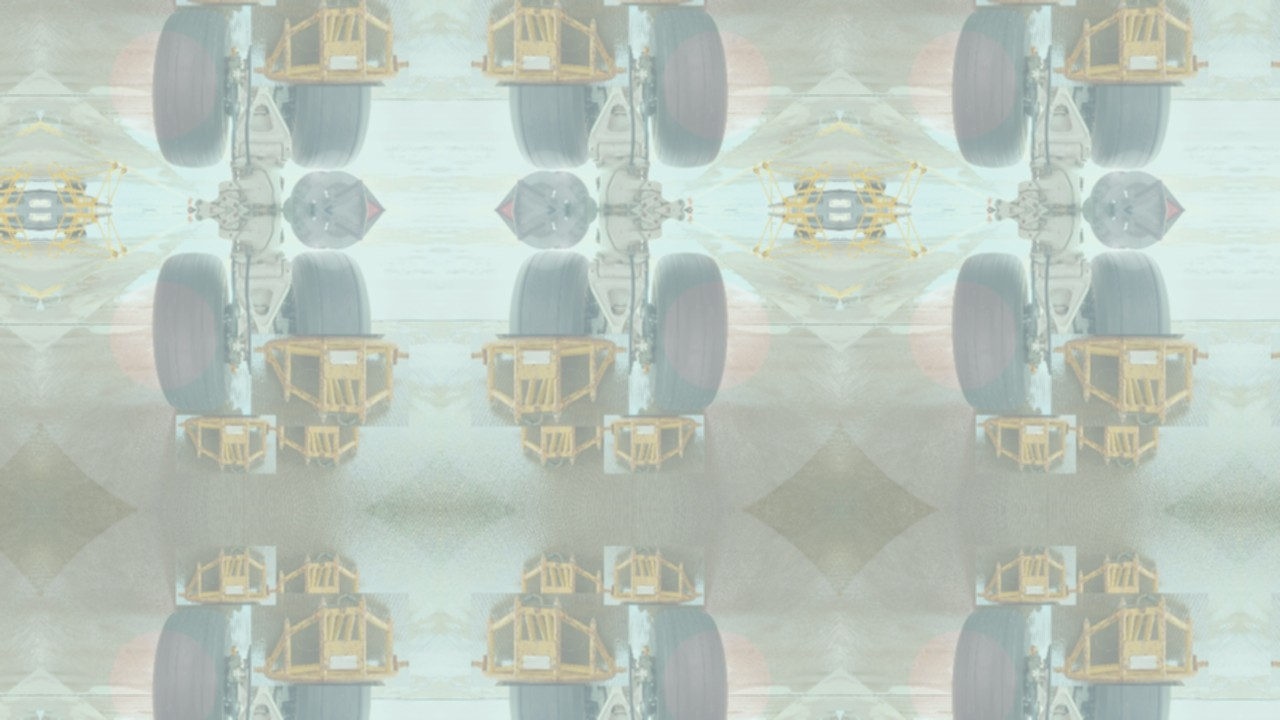chock: (251, 593, 409, 686), (471, 593, 629, 686), (1051, 593, 1209, 686), (251, 334, 409, 426), (471, 334, 629, 426), (1051, 334, 1209, 426), (251, 0, 409, 86), (471, 0, 629, 86), (1051, 0, 1209, 86), (255, 400, 370, 468), (510, 400, 625, 468), (1055, 400, 1170, 468), (255, 552, 370, 620), (510, 552, 625, 620), (1055, 552, 1170, 620), (176, 546, 276, 605), (604, 546, 704, 605), (976, 546, 1076, 605), (176, 415, 276, 473), (604, 415, 704, 473), (976, 415, 1076, 473), (255, 0, 370, 20), (510, 0, 625, 20), (1055, 0, 1170, 20), (1271, 593, 1280, 686), (1271, 334, 1280, 426), (1271, 0, 1280, 86), (176, 0, 276, 5), (604, 0, 704, 5), (976, 0, 1076, 5)
wheel: (281, 19, 370, 170), (510, 19, 599, 170), (1081, 19, 1170, 170), (281, 250, 370, 401), (510, 250, 599, 401), (1081, 250, 1170, 401), (150, 6, 232, 169), (648, 6, 730, 169), (950, 6, 1032, 169), (150, 251, 232, 414), (648, 251, 730, 414), (950, 251, 1032, 414), (150, 606, 232, 720), (648, 606, 730, 720), (950, 606, 1032, 720), (281, 619, 370, 720), (510, 619, 599, 720), (1081, 619, 1170, 720)
